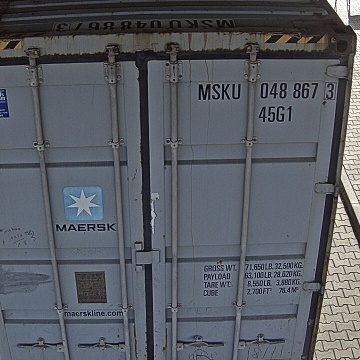serial_id: (197, 82, 334, 99)
